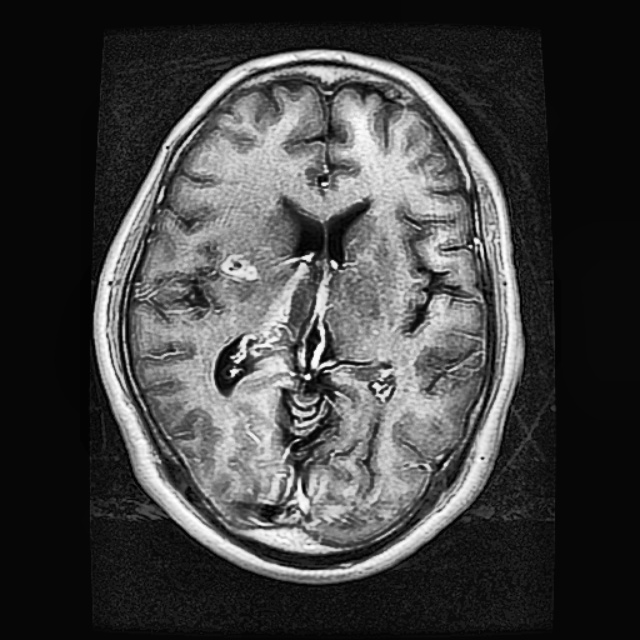Pituitary: (220, 253, 258, 280)
